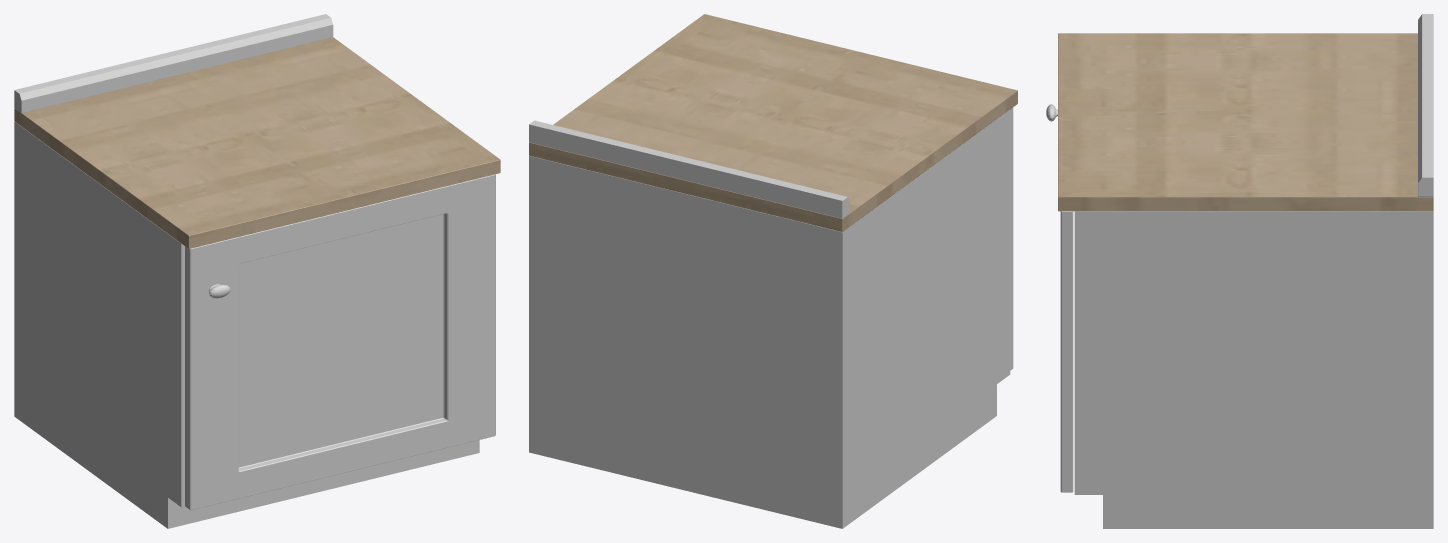
Rendered from sh-bsby-kitchen-small-lower-cabinet.glb.
3 views of the same model, side by side, from view 1: azimuth 30°, elevation 25°; view 2: azimuth 150°, elevation 25°; view 3: azimuth 270°, elevation 25° (orthographic). The views are drawn at different scales.
Visible parts, largest first — view 1: Base-unit-Box-Right.003_Cube.041, Worktop-Right.003_Cube.042, Plane.002_Plane.049; view 2: Base-unit-Box-Right.003_Cube.041, Worktop-Right.003_Cube.042, Plane.002_Plane.049; view 3: Base-unit-Box-Right.003_Cube.041, Worktop-Right.003_Cube.042, Plane.002_Plane.049.
Part boxes in pixels (x1=…): Base-unit-Box-Right.003_Cube.041: x1=14, y1=121, x2=495, y2=528; Worktop-Right.003_Cube.042: x1=14, y1=37, x2=500, y2=248; Plane.002_Plane.049: x1=14, y1=14, x2=333, y2=112; Base-unit-Box-Right.003_Cube.041: x1=529, y1=107, x2=1013, y2=528; Worktop-Right.003_Cube.042: x1=529, y1=14, x2=1017, y2=231; Plane.002_Plane.049: x1=529, y1=120, x2=849, y2=218; Base-unit-Box-Right.003_Cube.041: x1=1060, y1=211, x2=1433, y2=528; Worktop-Right.003_Cube.042: x1=1058, y1=33, x2=1433, y2=211; Plane.002_Plane.049: x1=1418, y1=14, x2=1433, y2=196.
Bounding box in the file's own units: 1 × 1 × 1.
3 materials, 1 textured.
